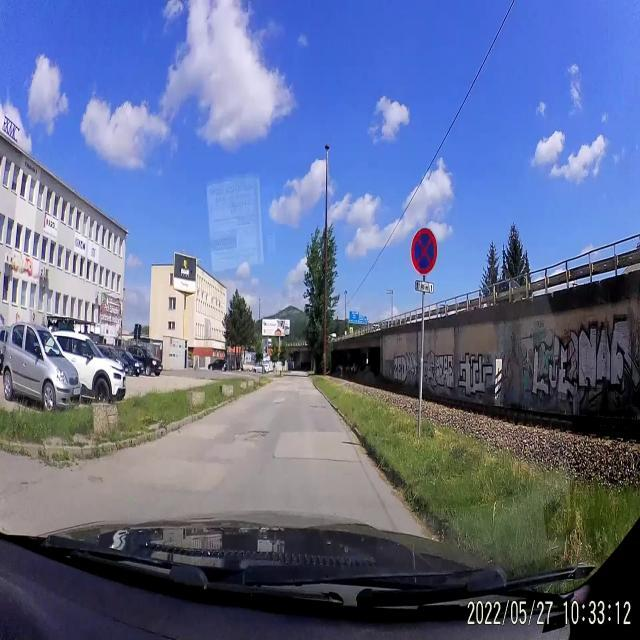Pothole: (232, 426, 270, 452), (16, 476, 42, 494), (86, 471, 104, 487), (310, 402, 326, 412), (273, 397, 286, 408)
